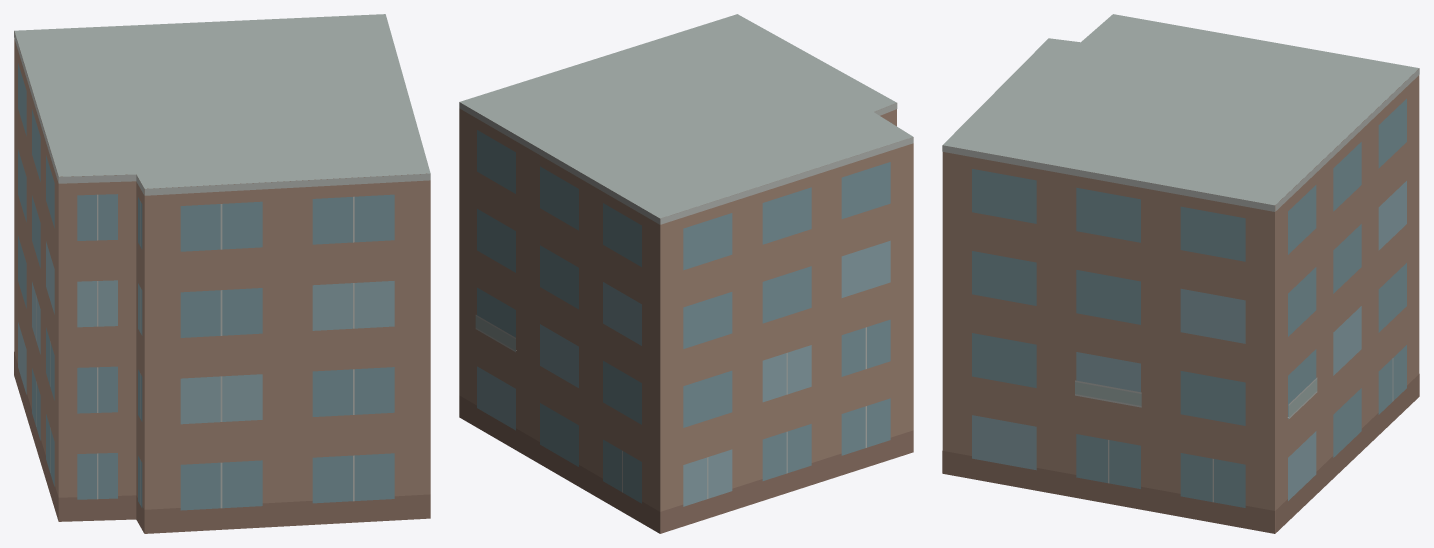
The model's file is survey-upis-32888598.glb.
3 renders of one model, left to right at view 1: azimuth 30°, elevation 25°; view 2: azimuth 150°, elevation 25°; view 3: azimuth 270°, elevation 25°, orthographic. The views are drawn at different scales.
Visible parts, largest first — view 1: survey-upis-32888598.tmp; view 2: survey-upis-32888598.tmp; view 3: survey-upis-32888598.tmp.
Boxes of the visible parts, bbox=[...] form: survey-upis-32888598.tmp: bbox=[14, 14, 430, 533]; survey-upis-32888598.tmp: bbox=[459, 14, 913, 533]; survey-upis-32888598.tmp: bbox=[942, 14, 1419, 533].
Bounding box in the file's own units: 15.26 × 12.2 × 16.07.
